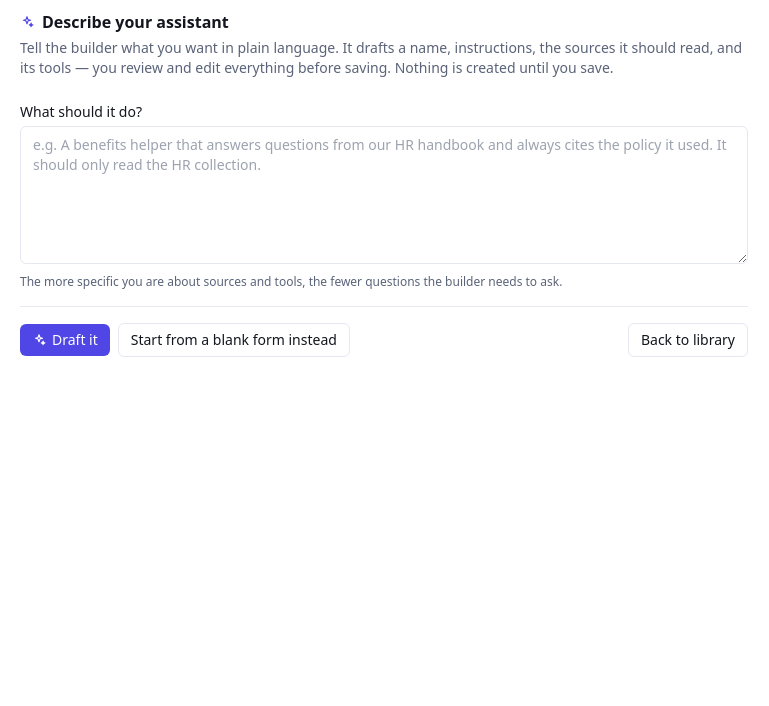
DescribeAssistant — draft → editor (E6-1, #213) › shows the builder clarifications above the pre-filled form (AC-2)
Type "Make me an assistant." into the text box labelled "What should it do?" at (384,195), box [20,126,748,264]
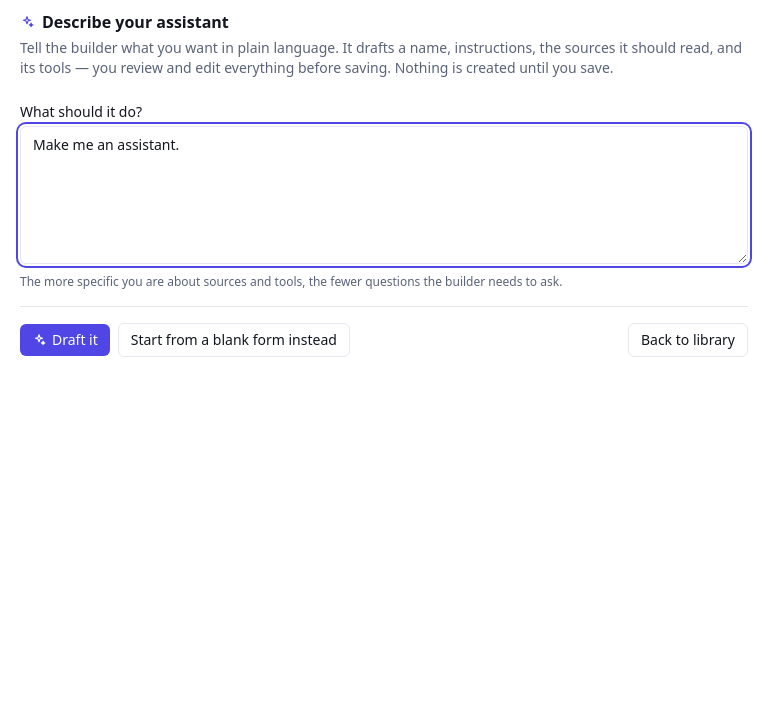
Click the button "Draft it" at (65,340), box [20,324,110,356]
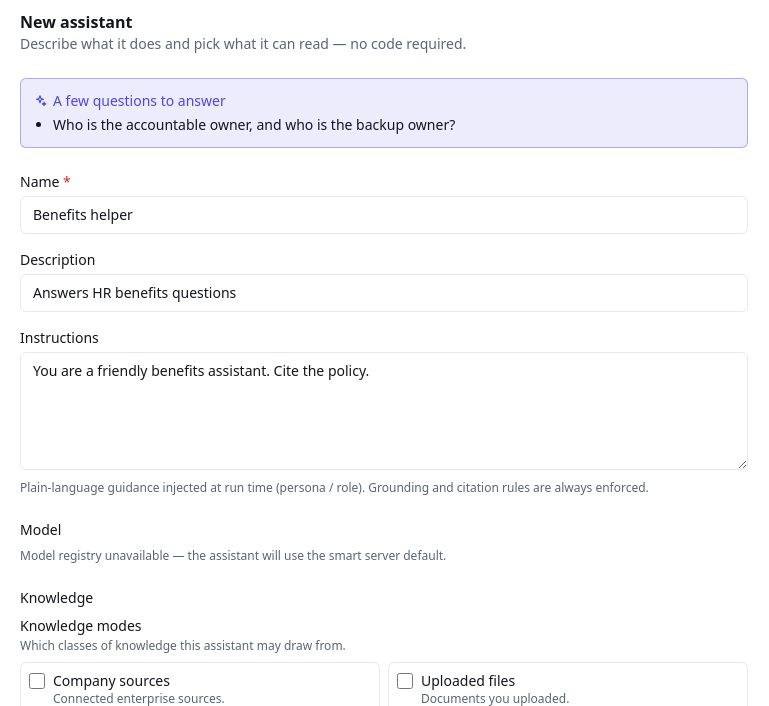
Now the list item "Who is the accountable owner, and who is the backup owner?" is shown, box [53,115,455,134]
Now the text "A few questions to answer" is shown, box [33,91,226,110]
